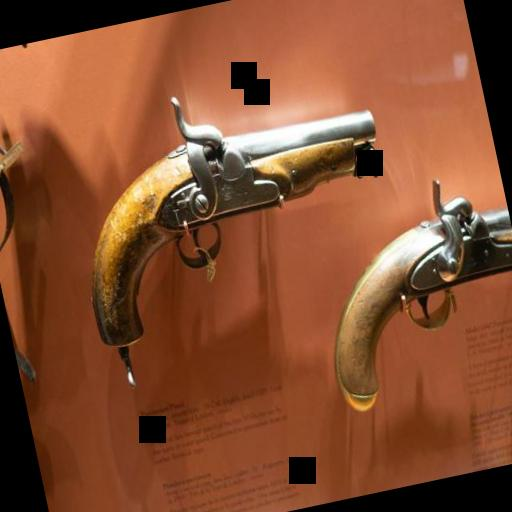Handgun: (47, 68, 414, 364)
